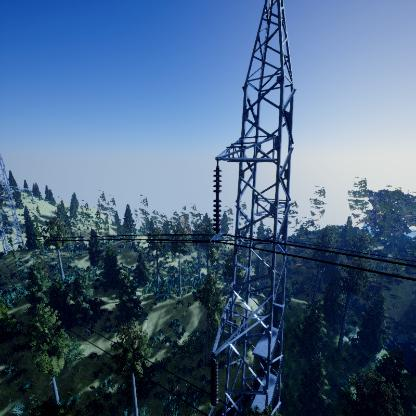insulator: (211, 167, 223, 234)
